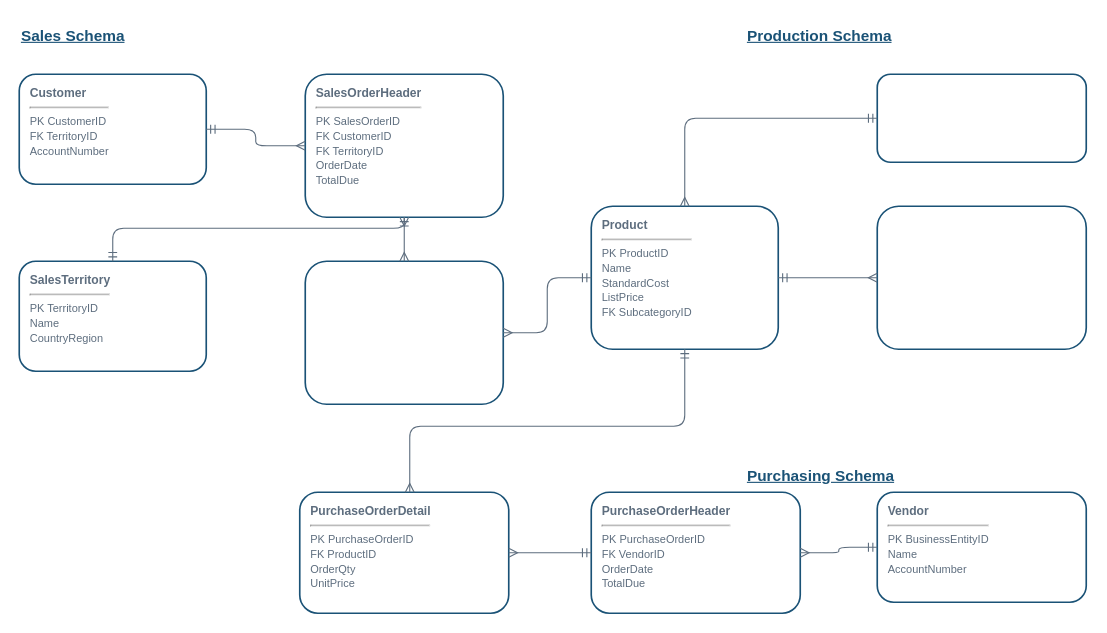
This 1107x633 diagram has some shape labels left out. Here are the shapes that lost their labels. From the top down, the centre of each, then its label:
At (x=981, y=118): "ProductSubcategory PK SubcategoryID Name".
At (x=981, y=277): "WorkOrder PK WorkOrderID FK ProductID OrderQty ScrappedQty StartDate / EndDate".
At (x=404, y=332): "SalesOrderDetail PK SalesOrderID PK ProductID OrderQty UnitPrice LineTotal".
